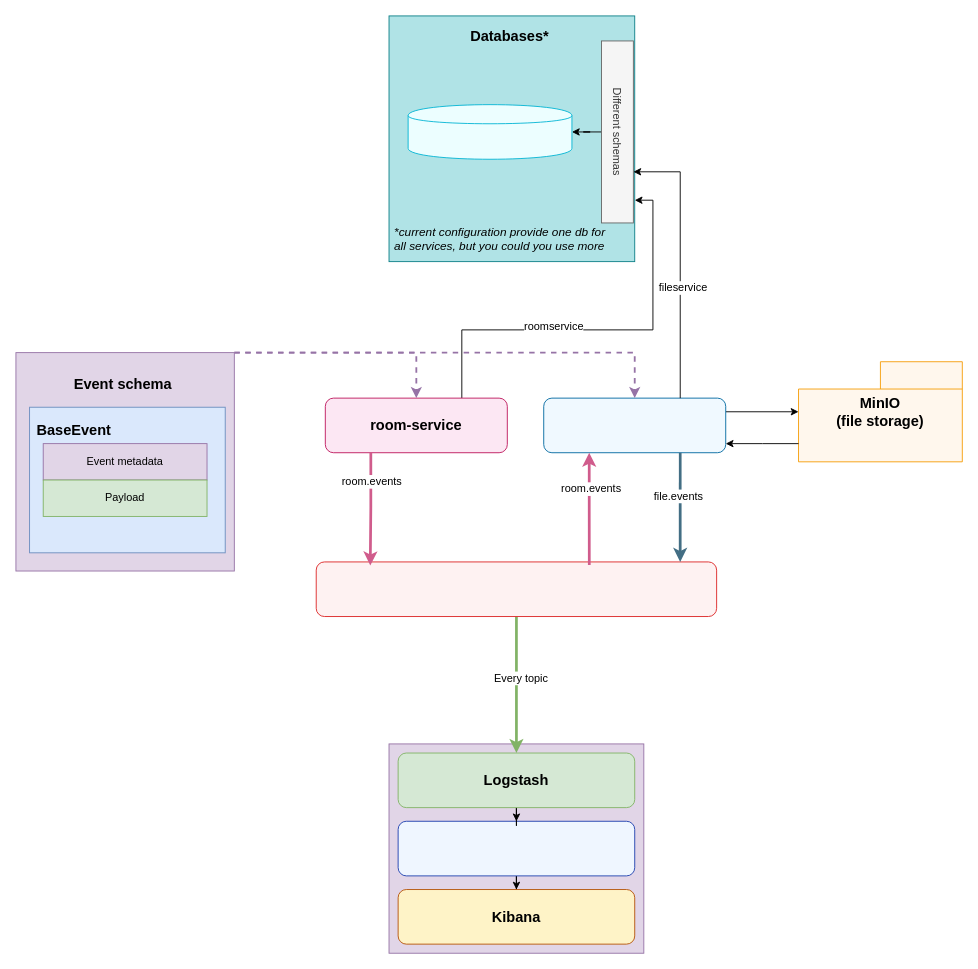
Some shapes in this 978 by 969 pixel diagram are drawn without their labels. Each missing label, with the box of its shape:
Apache Kafka (Event Bus): (315, 561, 717, 617)
Elasticsearch: (397, 820, 635, 876)
file-service: (543, 397, 726, 453)
Postgres: (407, 104, 572, 159)
